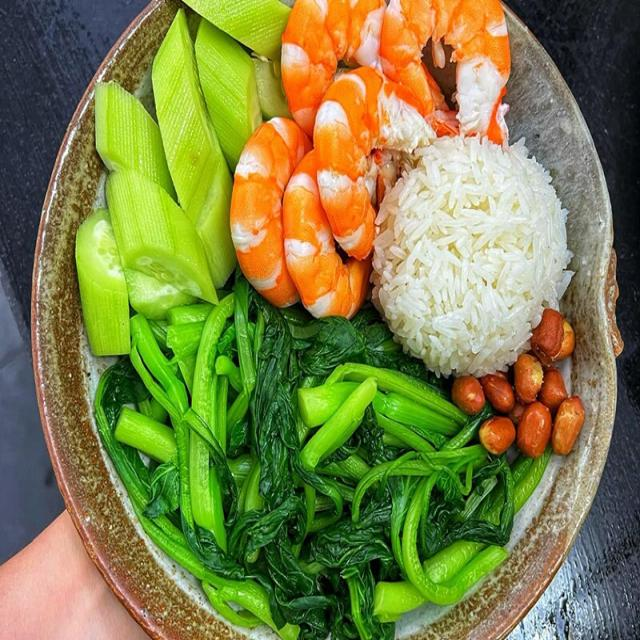com: (373, 137, 571, 375)
dua leo: (76, 0, 290, 354)
rau: (95, 275, 549, 639)
tom: (230, 0, 510, 317)
